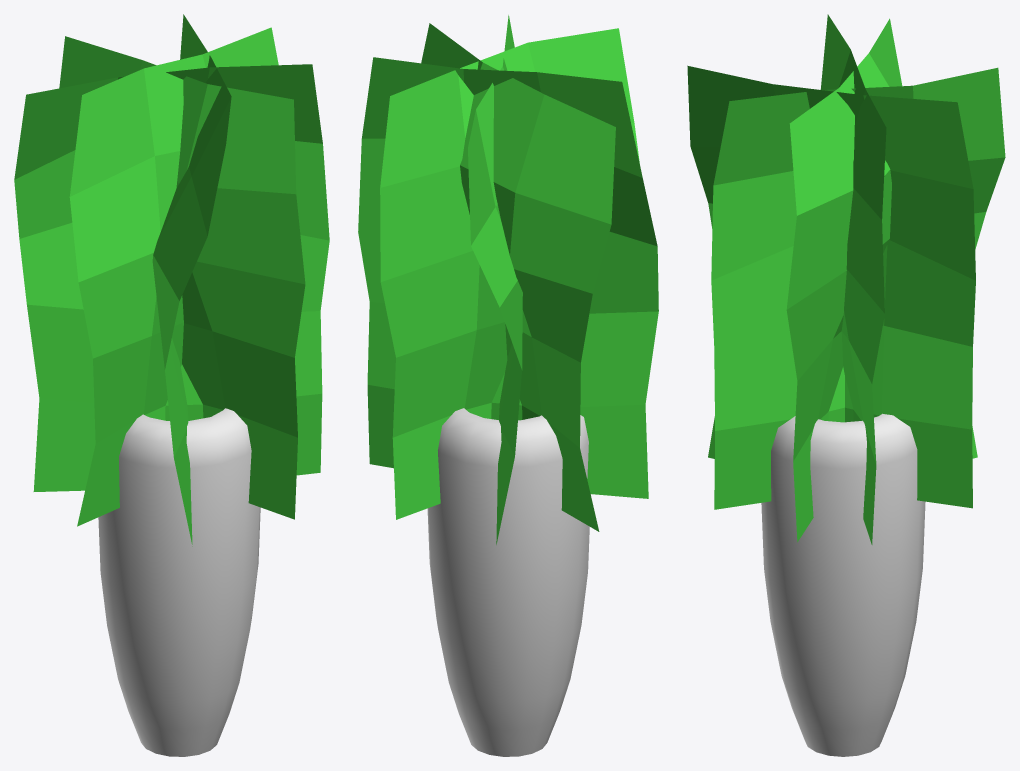
Rendered from Plant Slim Test.fbx.
3 renders of one model, left to right at view 1: azimuth 30°, elevation 25°; view 2: azimuth 150°, elevation 25°; view 3: azimuth 270°, elevation 25°, orthographic.
Parts seen in each view (by area): view 1: Plane; view 2: Plane; view 3: Plane.
Part boxes in pixels (bbox=[...]): Plane: bbox=[14, 14, 329, 756]; Plane: bbox=[358, 15, 658, 756]; Plane: bbox=[687, 14, 1005, 756].
Bounding box in the file's own units: 0.8106 × 1.99 × 0.8499.
